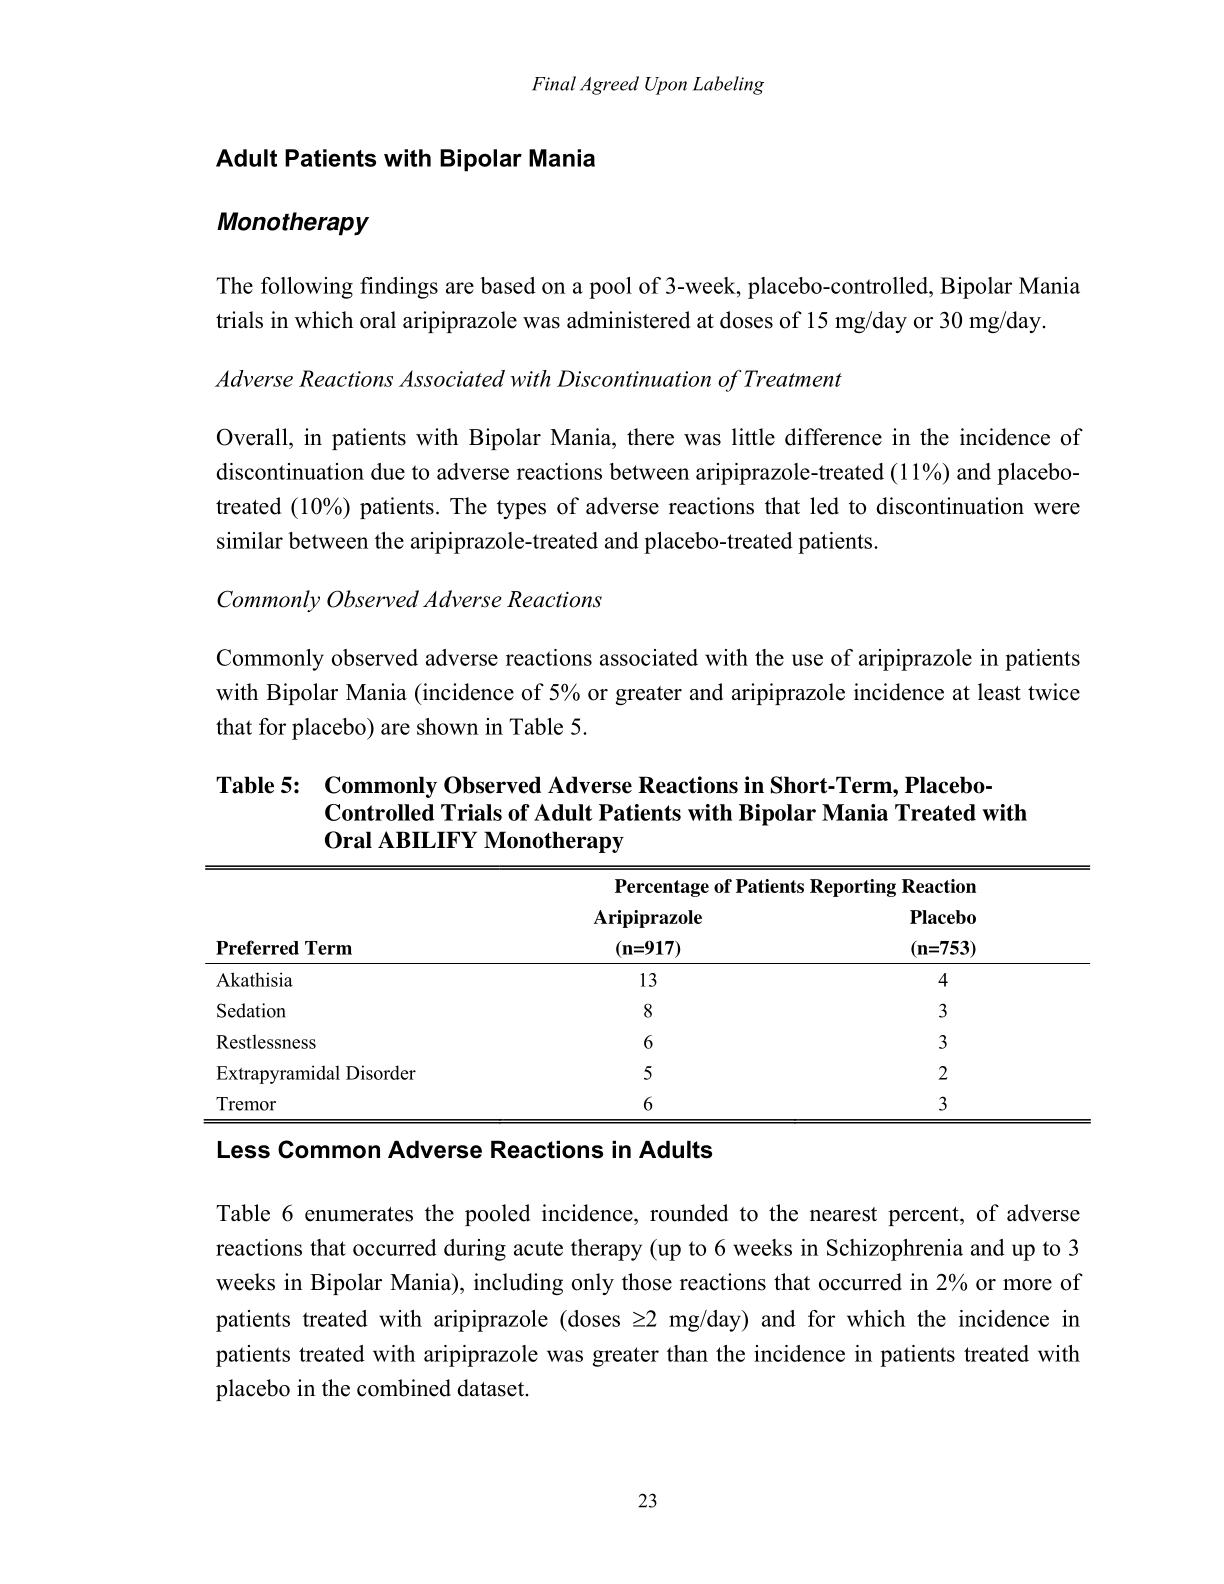partial_lined_merged_cells: (202, 864, 1092, 1128)
